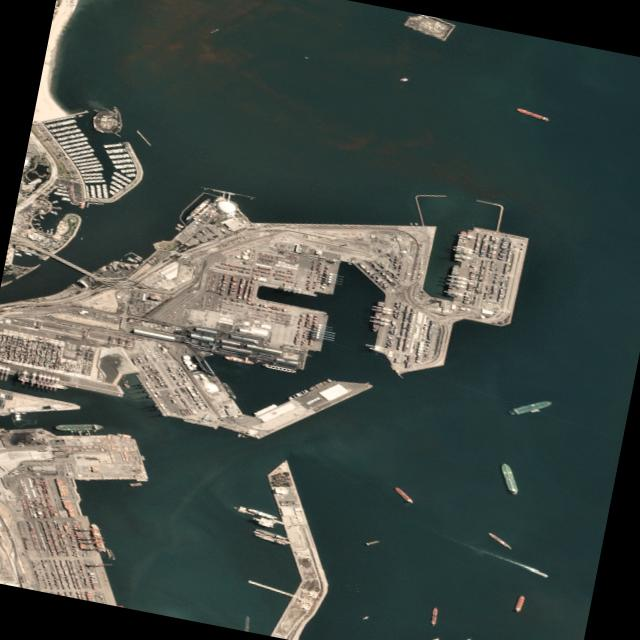ship: (508, 392, 554, 422), (54, 415, 104, 438), (495, 461, 526, 495), (85, 522, 112, 552), (514, 106, 551, 122), (451, 230, 469, 262), (485, 531, 515, 550), (445, 263, 461, 296), (370, 300, 386, 332), (391, 486, 416, 504), (510, 593, 529, 614), (246, 508, 278, 520), (254, 528, 286, 540), (223, 354, 255, 365), (253, 534, 286, 544), (428, 605, 441, 625), (364, 536, 381, 547)
